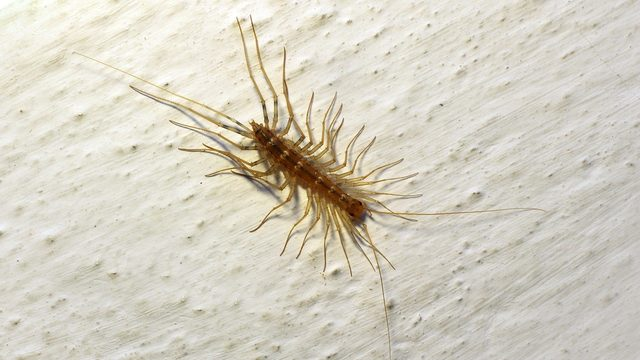centipede: (147, 40, 442, 283)
